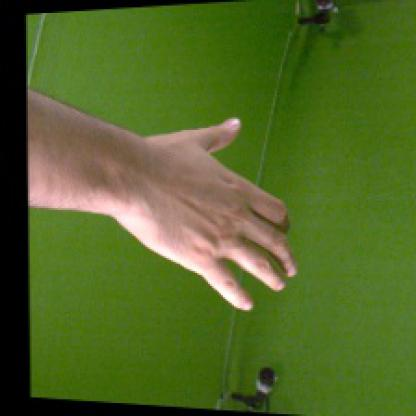Hand: (119, 116, 299, 312)
